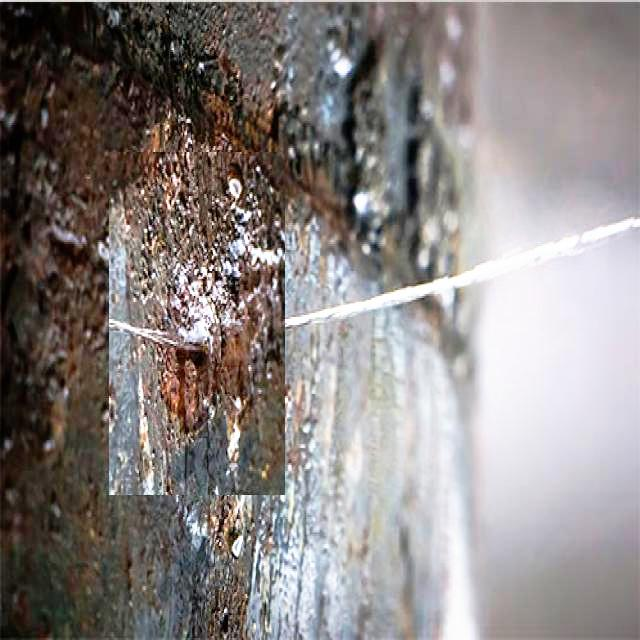Corrosion: (171, 346, 209, 436)
